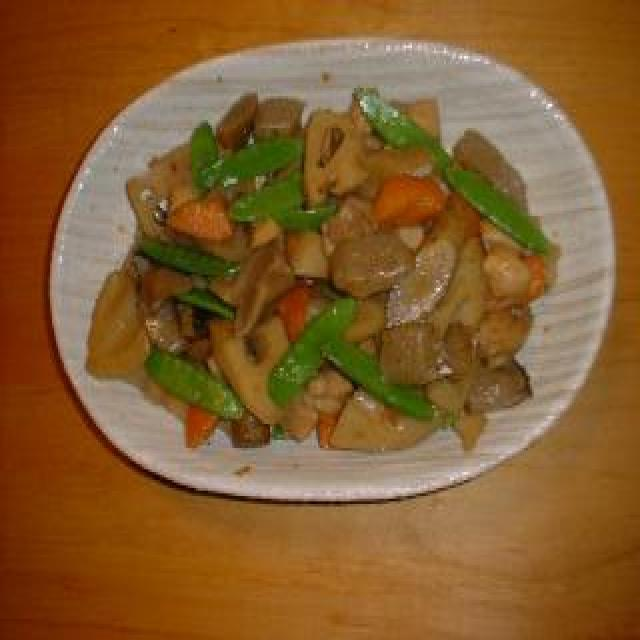鸡肉料理 含炸鸡: (32, 16, 620, 512)
